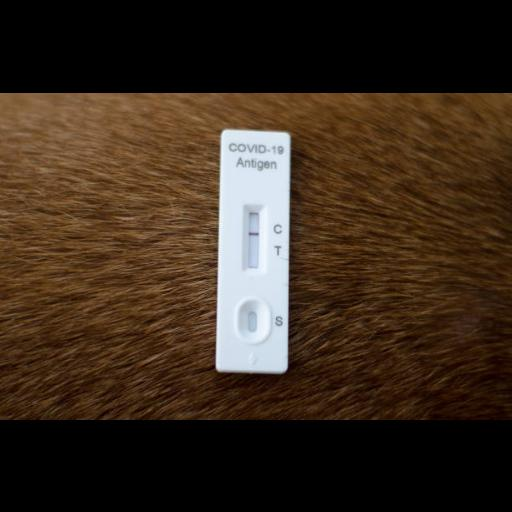Neg: (221, 128, 287, 372)
